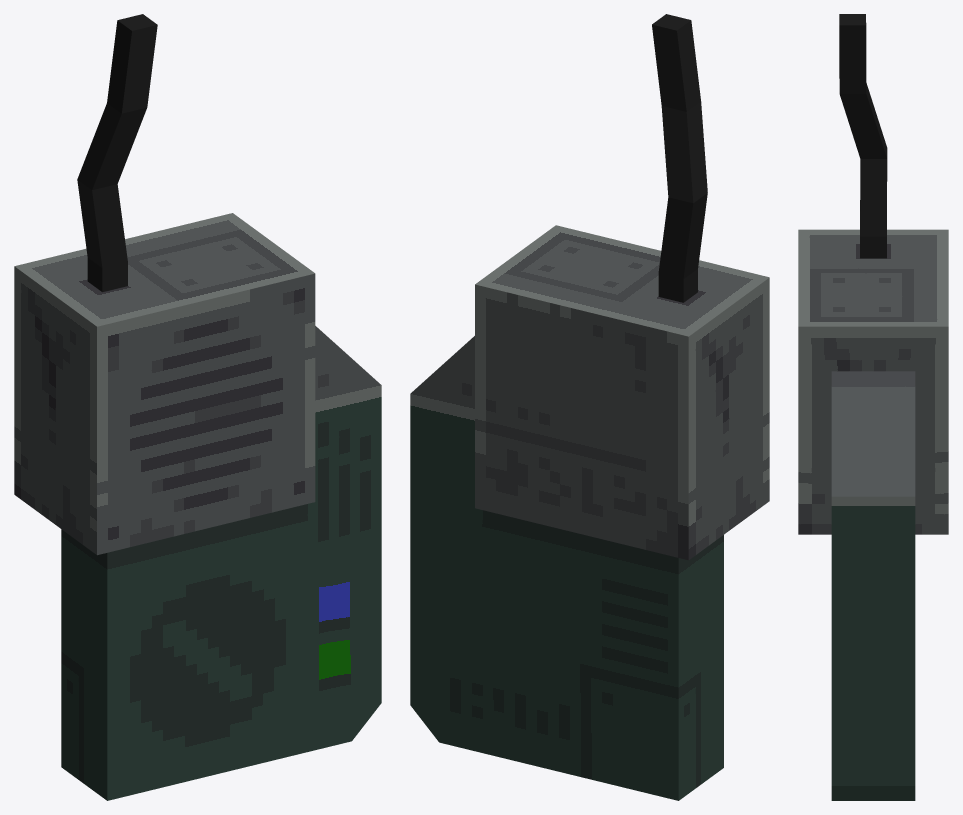
Rendered from radio.glb.
3 renders of one model, left to right at view 1: azimuth 30°, elevation 25°; view 2: azimuth 150°, elevation 25°; view 3: azimuth 270°, elevation 25°, orthographic. The views are drawn at different scales.
Visible parts, largest first — view 1: Radio_Cube.001; view 2: Radio_Cube.001; view 3: Radio_Cube.001.
Part boxes in pixels (x1=…): Radio_Cube.001: x1=14, y1=14, x2=381, y2=800; Radio_Cube.001: x1=410, y1=14, x2=769, y2=800; Radio_Cube.001: x1=798, y1=14, x2=948, y2=800.
Size of the model in its own units: 1 by 2.41 by 0.4749.
Materials: 1 (1 with a texture image).
